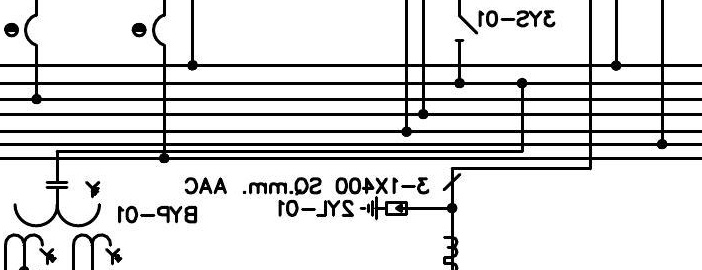115_cvt_3p: (3, 181, 123, 266)
115_ds: (453, 14, 479, 42)
115_la: (359, 195, 408, 221)
